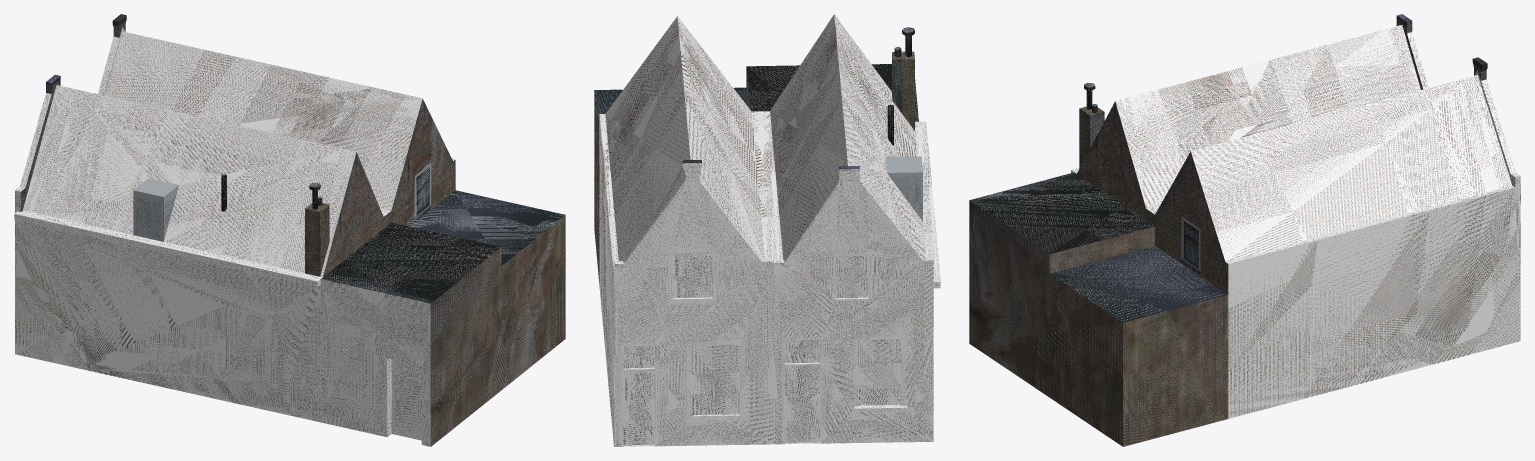
File: House12.fbx
The picture shows the model from 3 angles, left to right: view 1: azimuth 30°, elevation 25°; view 2: azimuth 150°, elevation 25°; view 3: azimuth 270°, elevation 25°; orthographic projection. The views are drawn at different scales.
Parts seen in each view (by area): view 1: Model, Group1; view 2: Model, Group1; view 3: Model, Group1.
Part boxes in pixels (left/top/right/bottom): Model: left=14, top=14, right=565, bottom=446; Group1: left=305, top=203, right=329, bottom=276; Model: left=594, top=14, right=940, bottom=446; Group1: left=892, top=51, right=914, bottom=130; Model: left=969, top=14, right=1520, bottom=446; Group1: left=1079, top=106, right=1104, bottom=168.
Bounding box in the file's own units: 12.82 × 7.24 × 14.16.
